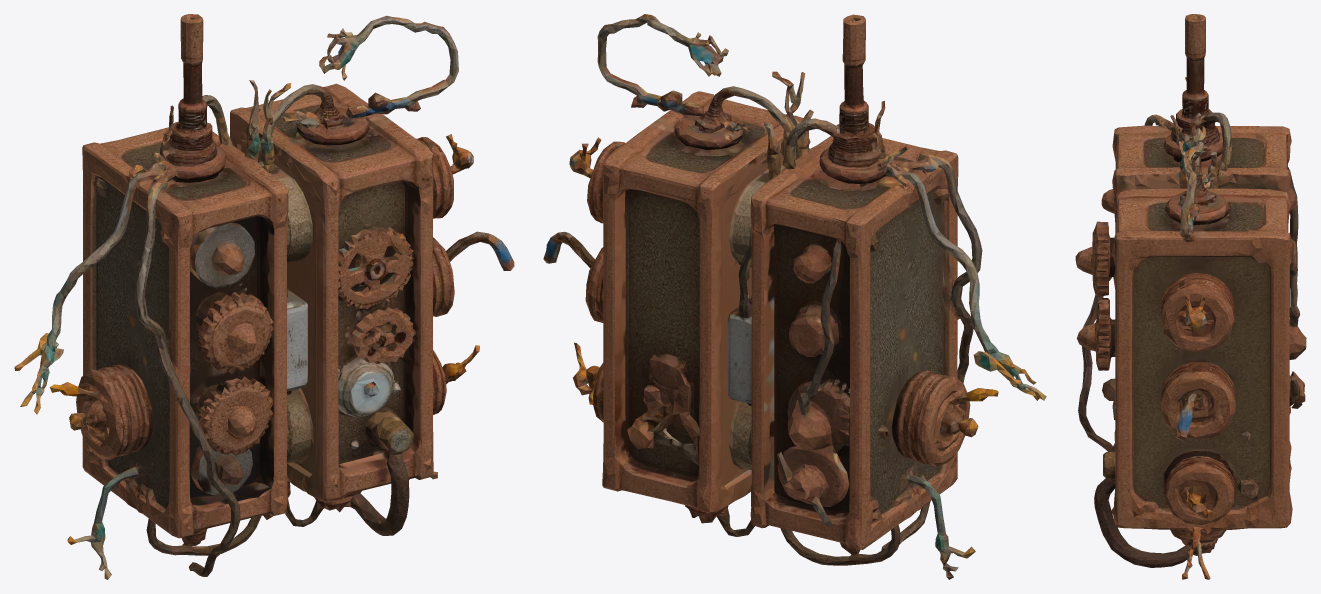
File: wing (259).glb
3 renders of one model, left to right at view 1: azimuth 30°, elevation 25°; view 2: azimuth 150°, elevation 25°; view 3: azimuth 270°, elevation 25°, orthographic. The views are drawn at different scales.
Parts seen in each view (by area): view 1: Hy21_Mesh.obj; view 2: Hy21_Mesh.obj; view 3: Hy21_Mesh.obj.
Part boxes in pixels (x1,y1,x2,y2): Hy21_Mesh.obj: [14, 14, 514, 579]; Hy21_Mesh.obj: [543, 14, 1046, 579]; Hy21_Mesh.obj: [1075, 14, 1306, 579].
Size of the model in its own units: 1.86 by 1.96 by 0.84.
1 material, 1 textured.
